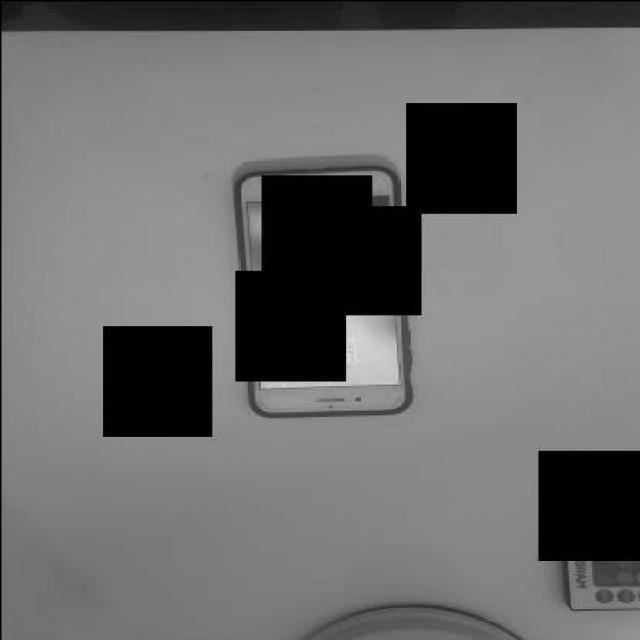fake: (234, 158, 408, 416)
